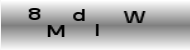8: (27, 7, 41, 21)
M: (47, 24, 65, 37)
W: (123, 10, 147, 25)
d: (71, 7, 85, 21)
l: (95, 23, 99, 36)
